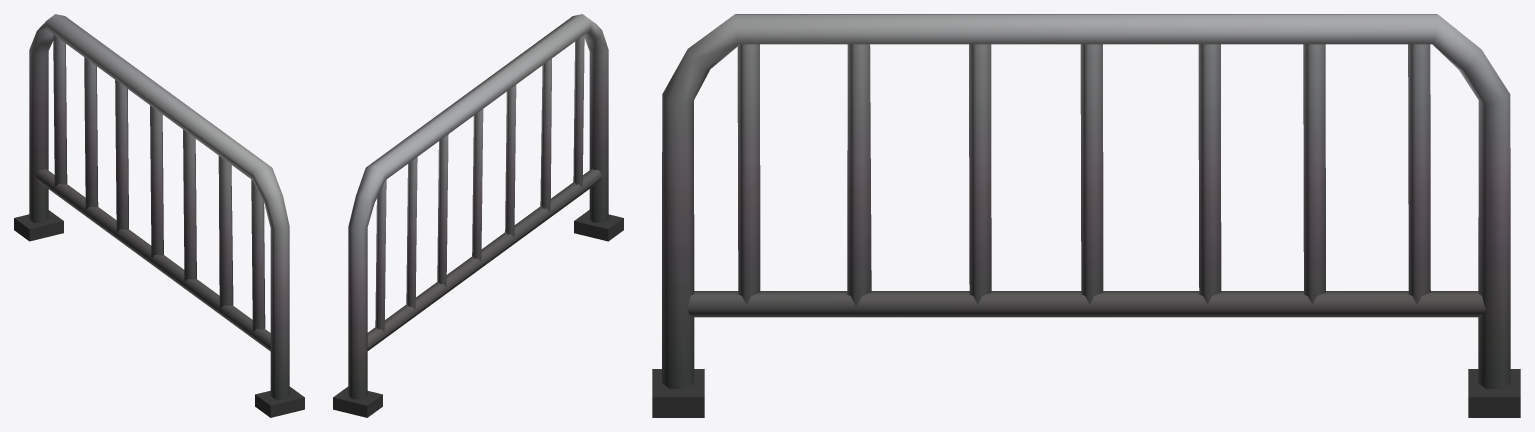
File: Barier_4_A.fbx
3 views of the same model, side by side, from view 1: azimuth 30°, elevation 25°; view 2: azimuth 150°, elevation 25°; view 3: azimuth 270°, elevation 25° (orthographic). The views are drawn at different scales.
Parts seen in each view (by area): view 1: Barier_4_A; view 2: Barier_4_A; view 3: Barier_4_A.
Boxes of the visible parts, <box> form: Barier_4_A: <box>14,14,304,417</box>; Barier_4_A: <box>333,14,623,417</box>; Barier_4_A: <box>652,14,1520,417</box>.
Bounding box in the file's own units: 15.74 × 101 × 204.
